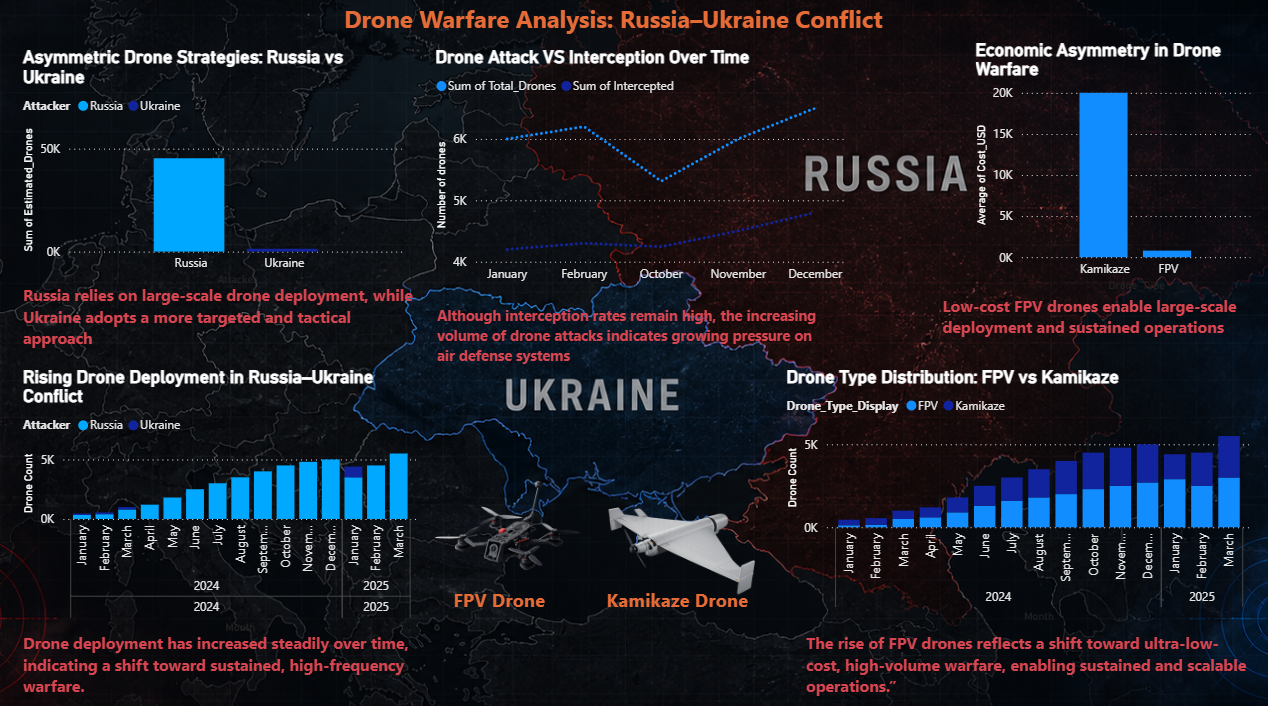

Layout of this report page (visuals, bound fields, positions):
{"tool":"powerbi","page":{"name":"Russia-Ukraine War","canvas":[1280,720],"ordinal":3},"visuals":[{"type":"columnChart","title":"Rising Drone Deployment in Russia–Ukraine Conflict","fields":{"Category":["Table1.Year","Table1.Date.Variation.Date Hierarchy.Year","Table1.Date.Variation.Date Hierarchy.Month"],"Y":["Sum(Table1.Estimated_Drones)"],"Series":["Table1.Attacker"]},"box":[18.2,372.5,407.3,274.1],"z":0},{"type":"textbox","box":[18.2,636,434.6,83.3],"z":1000},{"type":"columnChart","title":"Drone Type Distribution: FPV vs Kamikaze","fields":{"Y":["Sum(Table1.Estimated_Drones)"],"Category":["Table1.Date.Variation.Date Hierarchy.Year","Table1.Date.Variation.Date Hierarchy.Month"],"Series":["Table1.Drone_Type_Display"]},"box":[788.9,372.5,478.5,263.5],"z":2000},{"type":"textbox","box":[808.6,636,458.8,83.3],"z":3000},{"type":"columnChart","title":"Economic Asymmetry in Drone Warfare","fields":{"Category":["Sheet1.Drone_Type"],"Y":["Avg(Sheet1.Cost_USD)"]},"box":[979.7,42.4,287.7,258.9],"z":4000},{"type":"textbox","box":[946.4,295.3,321,77.2],"z":5000},{"type":"columnChart","title":"Asymmetric Drone Strategies: Russia vs Ukraine","fields":{"Category":["Table1.Attacker"],"Y":["Sum(Table1.Estimated_Drones)"],"Series":["Table1.Attacker"]},"box":[18.6,50,395.7,245.7],"z":6000},{"type":"textbox","box":[18.2,284.7,407.3,87.8],"z":7000},{"type":"lineChart","title":"Drone Attack VS Interception Over Time","fields":{"Category":["Interception Data.Date.Variation.Date Hierarchy.Month"],"Y":["Sum(Interception Data.Total_Drones)","Sum(Interception Data.Intercepted)"]},"box":[434.6,50,427,255.9],"z":8000},{"type":"textbox","box":[436.1,305.9,408.8,77.2],"z":9000},{"type":"textbox","box":[342.2,0,617.8,50],"z":10000},{"type":"image","box":[425.5,372.5,363.4,346.8],"z":11000},{"type":"textbox","box":[452.7,590.5,103,45.4],"z":12000},{"type":"textbox","box":[607.2,590.5,166.6,72.7],"z":13000}]}

Visuals, with their boxes in screenshot pixels (x1, y1, x2, y2), scaled from the page's 1280x720 canvas onto the 1268x706 screenshot:
"Rising Drone Deployment in Russia–Ukraine Conflict" columnChart: [x1=18, y1=365, x2=422, y2=634]
textbox: [x1=18, y1=624, x2=449, y2=705]
"Drone Type Distribution: FPV vs Kamikaze" columnChart: [x1=782, y1=365, x2=1256, y2=624]
textbox: [x1=801, y1=624, x2=1256, y2=705]
"Economic Asymmetry in Drone Warfare" columnChart: [x1=971, y1=42, x2=1256, y2=295]
textbox: [x1=938, y1=290, x2=1256, y2=365]
"Asymmetric Drone Strategies: Russia vs Ukraine" columnChart: [x1=18, y1=49, x2=410, y2=290]
textbox: [x1=18, y1=279, x2=422, y2=365]
"Drone Attack VS Interception Over Time" lineChart: [x1=431, y1=49, x2=854, y2=300]
textbox: [x1=432, y1=300, x2=837, y2=376]
textbox: [x1=339, y1=0, x2=951, y2=49]
image: [x1=422, y1=365, x2=782, y2=705]
textbox: [x1=448, y1=579, x2=550, y2=624]
textbox: [x1=602, y1=579, x2=767, y2=650]
